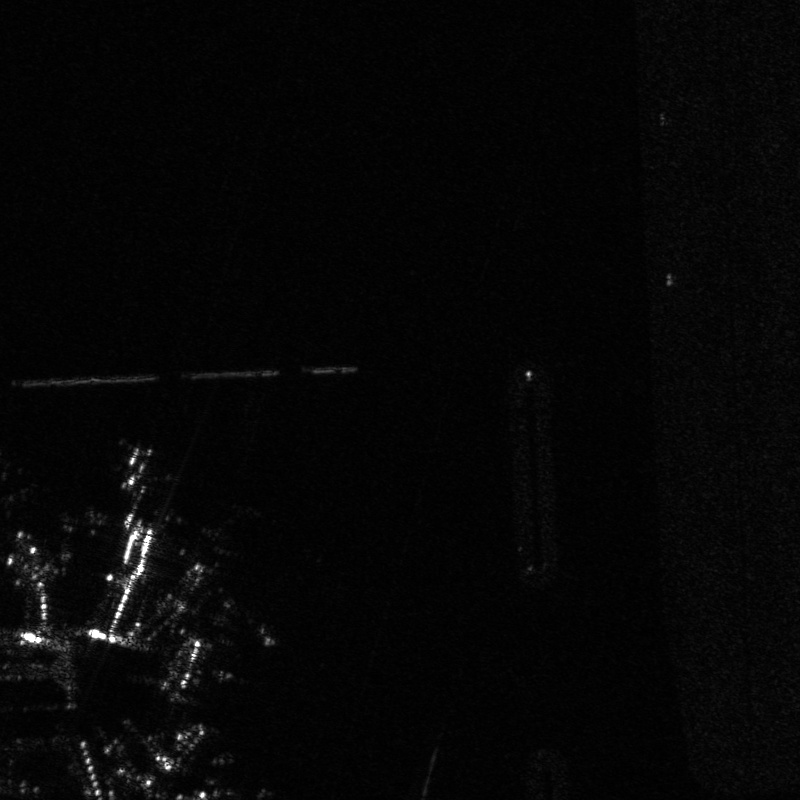A320/321: (91, 439, 180, 503)
